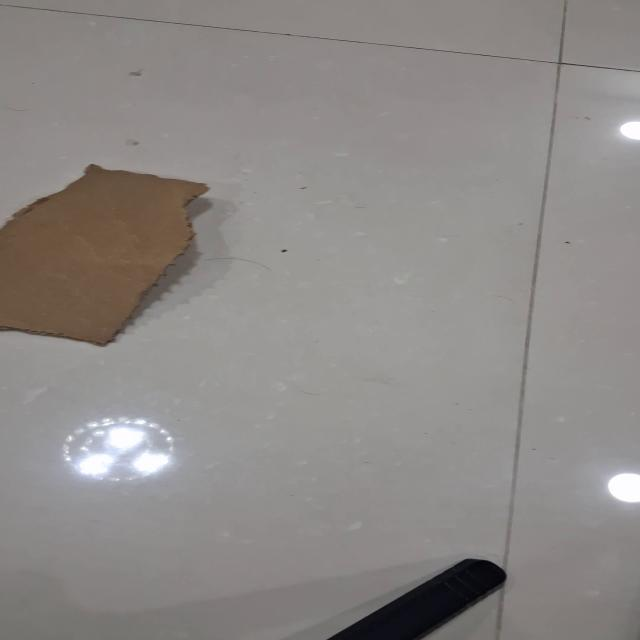paper: (1, 1, 638, 639), (1, 162, 210, 347)
